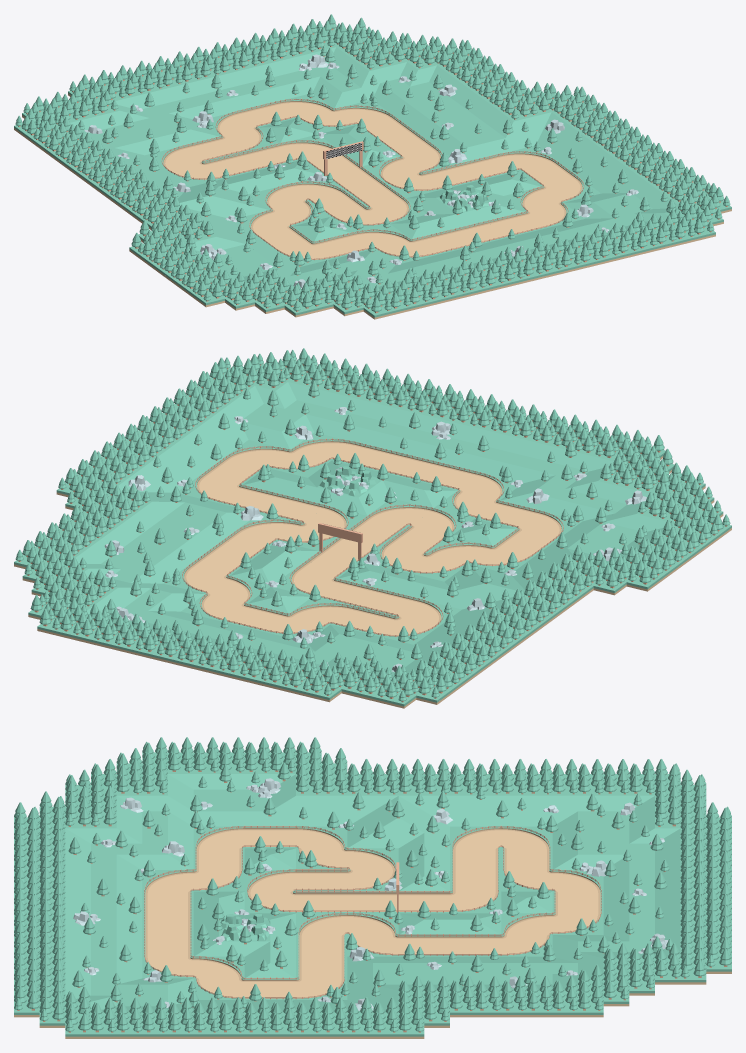
The model's file is Map_1-transformed.glb.
3 renders of one model, top to bottom at view 1: azimuth 30°, elevation 25°; view 2: azimuth 150°, elevation 25°; view 3: azimuth 270°, elevation 25°, orthographic. The views are drawn at different scales.
Visible parts, largest first — view 1: tile_wideCorner.005, tile_wideCorner.016, tile_wideCorner.020, tile_wideCorner.009, tile_wideCorner.011, tile_wideCorner.007, tile_wideCorner.002, tile_wideCorner.013, tile_wideCorner.019, tile_wideCorner.022, tile_wideCorner.003, tile_wideCorner.012 (+12 smaller); view 2: tile_wideCorner.012, tile_wideCorner.003, tile_wideCorner.017, tile_wideCorner.014, tile_wideCorner.021, tile_wideCorner.008, tile_wideCorner.006, tile_wideCorner.001, tile_wideCorner.023, tile_wideCorner.015, tile_wideCorner.007, tile_wideCorner.018 (+13 smaller); view 3: tile_wideCorner.006, tile_wideCorner.001, tile_wideCorner.020, tile_wideCorner.022, tile_wideCorner.010, tile_wideCorner.002, tile_wideCorner.023, tile_wideCorner.009, tile_wideCorner.013, tile_wideCorner.018, tile_wideCorner.015, tile_wideCorner.004 (+45 smaller).
Boxes of the visible parts, x1=… form: tile_wideCorner.005: x1=275, y1=94, x2=333, y2=117; tile_wideCorner.016: x1=352, y1=224, x2=411, y2=248; tile_wideCorner.020: x1=248, y1=185, x2=307, y2=210; tile_wideCorner.009: x1=362, y1=157, x2=421, y2=182; tile_wideCorner.011: x1=499, y1=145, x2=556, y2=170; tile_wideCorner.007: x1=334, y1=100, x2=393, y2=124; tile_wideCorner.002: x1=145, y1=146, x2=203, y2=171; tile_wideCorner.013: x1=504, y1=187, x2=562, y2=212; tile_wideCorner.019: x1=287, y1=175, x2=345, y2=200; tile_wideCorner.022: x1=236, y1=210, x2=291, y2=235; tile_wideCorner.003: x1=220, y1=127, x2=279, y2=152; tile_wideCorner.012: x1=542, y1=177, x2=600, y2=202; tile_wideCorner.012: x1=224, y1=440, x2=289, y2=467; tile_wideCorner.003: x1=289, y1=598, x2=352, y2=624; tile_wideCorner.017: x1=367, y1=499, x2=431, y2=525; tile_wideCorner.014: x1=291, y1=432, x2=355, y2=460; tile_wideCorner.021: x1=427, y1=537, x2=492, y2=563; tile_wideCorner.008: x1=236, y1=513, x2=299, y2=540; tile_wideCorner.006: x1=205, y1=576, x2=269, y2=604; tile_wideCorner.001: x1=397, y1=599, x2=461, y2=627; tile_wideCorner.023: x1=517, y1=511, x2=581, y2=538; tile_wideCorner.015: x1=457, y1=473, x2=521, y2=501; tile_wideCorner.007: x1=163, y1=566, x2=227, y2=593; tile_wideCorner.018: x1=411, y1=508, x2=474, y2=535; tile_wideCorner.006: x1=501, y1=913, x2=552, y2=936; tile_wideCorner.001: x1=450, y1=826, x2=501, y2=849; tile_wideCorner.020: x1=347, y1=848, x2=398, y2=871; tile_wideCorner.022: x1=296, y1=826, x2=347, y2=849; tile_wideCorner.010: x1=296, y1=913, x2=347, y2=936; tile_wideCorner.002: x1=501, y1=826, x2=552, y2=849; tile_wideCorner.023: x1=193, y1=826, x2=244, y2=849; tile_wideCorner.009: x1=347, y1=913, x2=398, y2=936; tile_wideCorner.013: x1=193, y1=956, x2=244, y2=979; tile_wideCorner.018: x1=244, y1=870, x2=295, y2=892; tile_wideCorner.015: x1=142, y1=870, x2=193, y2=892; tile_wideCorner.004: x1=552, y1=870, x2=603, y2=892.
Size of the model in its own units: 26 by 3.45 by 28.
Materials: 10 (1 with a texture image).
